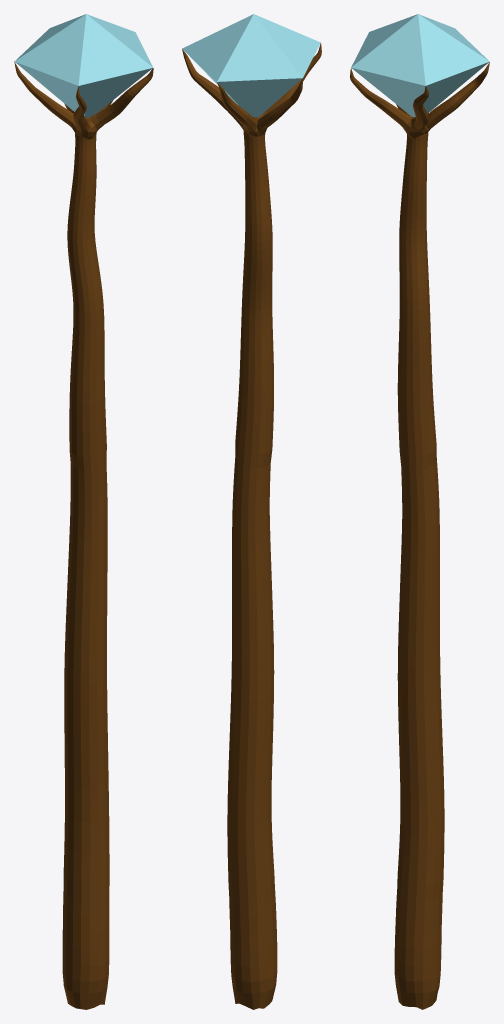
File: Staff.fbx
3 renders of one model, left to right at view 1: azimuth 30°, elevation 25°; view 2: azimuth 150°, elevation 25°; view 3: azimuth 330°, elevation 25°, orthographic.
Parts seen in each view (by area): view 1: Staff 1; view 2: Staff 1; view 3: Staff 1.
Boxes of the visible parts, bbox=[...] form: Staff 1: bbox=[14, 14, 153, 1009]; Staff 1: bbox=[182, 14, 321, 1009]; Staff 1: bbox=[350, 14, 489, 1009].
Bounding box in the file's own units: 27.73 × 217 × 26.52.
